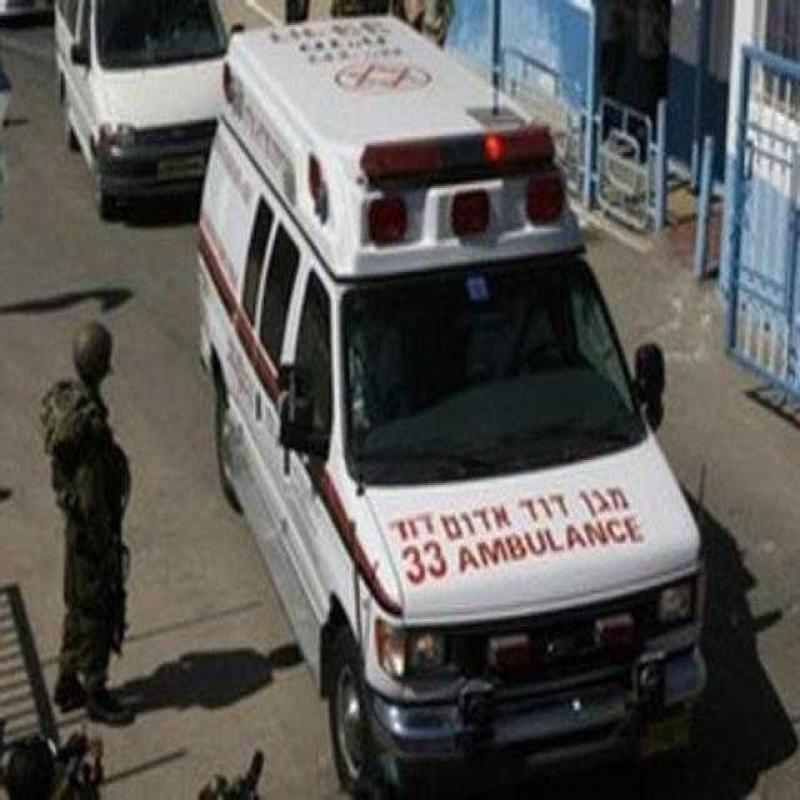AmbulanceSiren: (351, 106, 568, 236)
